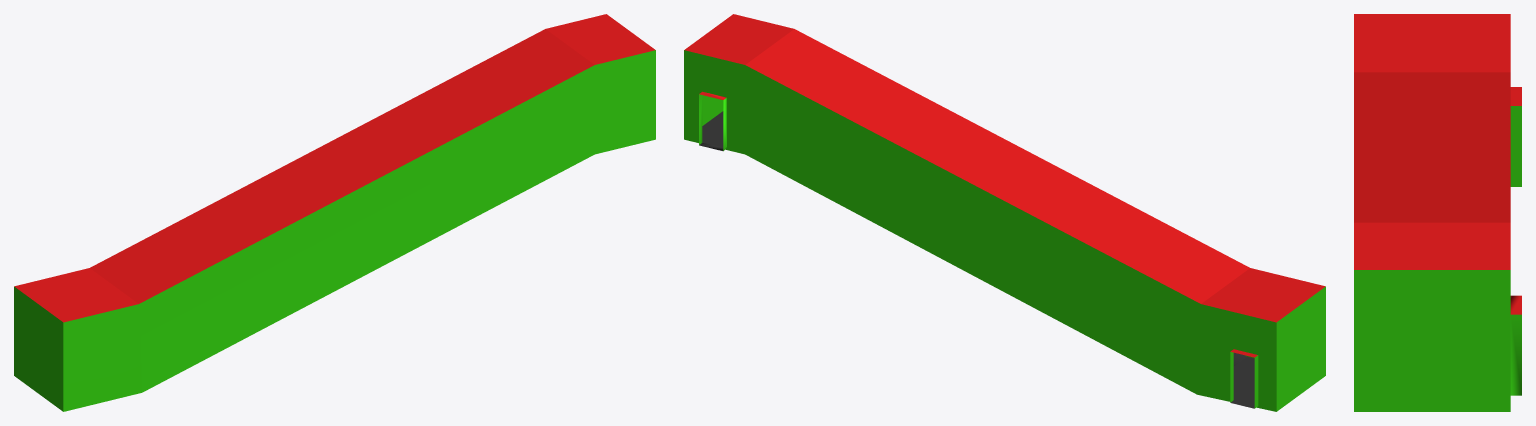
File: StairsFloor2andNurseryMesh.gltf
3 renders of one model, left to right at view 1: azimuth 30°, elevation 25°; view 2: azimuth 150°, elevation 25°; view 3: azimuth 270°, elevation 25°, orthographic. The views are drawn at different scales.
Parts seen in each view (by area): view 1: StairsFloor2andNurseryMesh2; view 2: StairsFloor2andNurseryMesh2; view 3: StairsFloor2andNurseryMesh2.
Part boxes in pixels (<box>): StairsFloor2andNurseryMesh2: <box>14,14,655,411</box>; StairsFloor2andNurseryMesh2: <box>684,14,1325,411</box>; StairsFloor2andNurseryMesh2: <box>1354,14,1521,411</box>.
Bounding box in the file's own units: 48.5 × 17.16 × 7.5.
